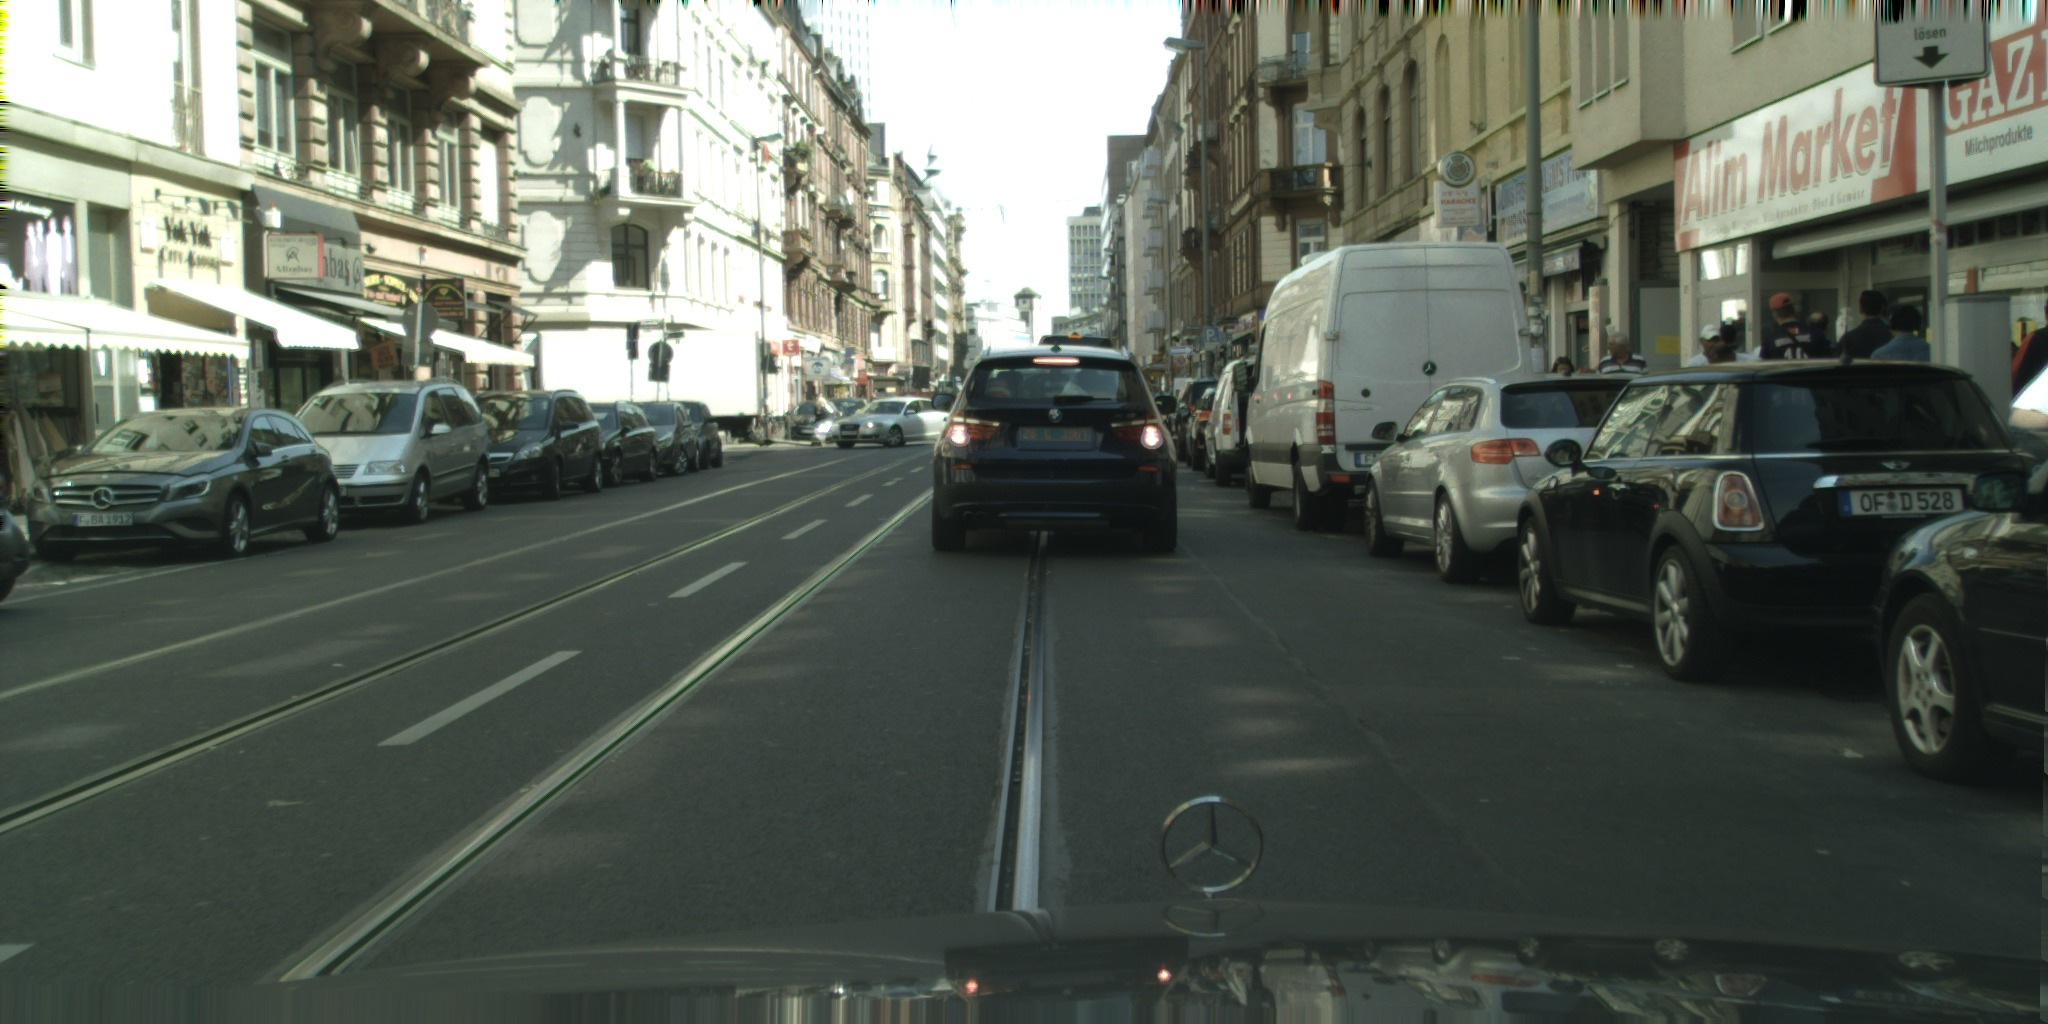bicycle: (760, 409, 779, 438)
car: (1515, 333, 2029, 684), (1233, 242, 1549, 534), (1362, 373, 1681, 585), (1868, 460, 2047, 787), (931, 332, 1180, 553), (27, 408, 341, 564), (278, 375, 490, 523), (436, 389, 602, 499), (1196, 352, 1305, 487), (539, 400, 659, 488), (589, 401, 700, 476), (825, 397, 973, 449), (1179, 387, 1250, 472), (649, 400, 722, 469), (1176, 379, 1236, 461), (819, 395, 943, 431), (1160, 378, 1215, 454), (0, 509, 33, 605), (784, 400, 852, 439), (1033, 332, 1113, 348)
person: (1996, 318, 2047, 536), (1760, 291, 1854, 409), (1855, 305, 1934, 405), (1686, 322, 1762, 416), (1996, 362, 2047, 496), (1833, 291, 1899, 392), (1794, 310, 1841, 400), (1598, 332, 1650, 412), (1719, 322, 1764, 393), (1694, 337, 1735, 393), (1545, 357, 1576, 395), (814, 395, 826, 446)
truck: (520, 329, 822, 447)
